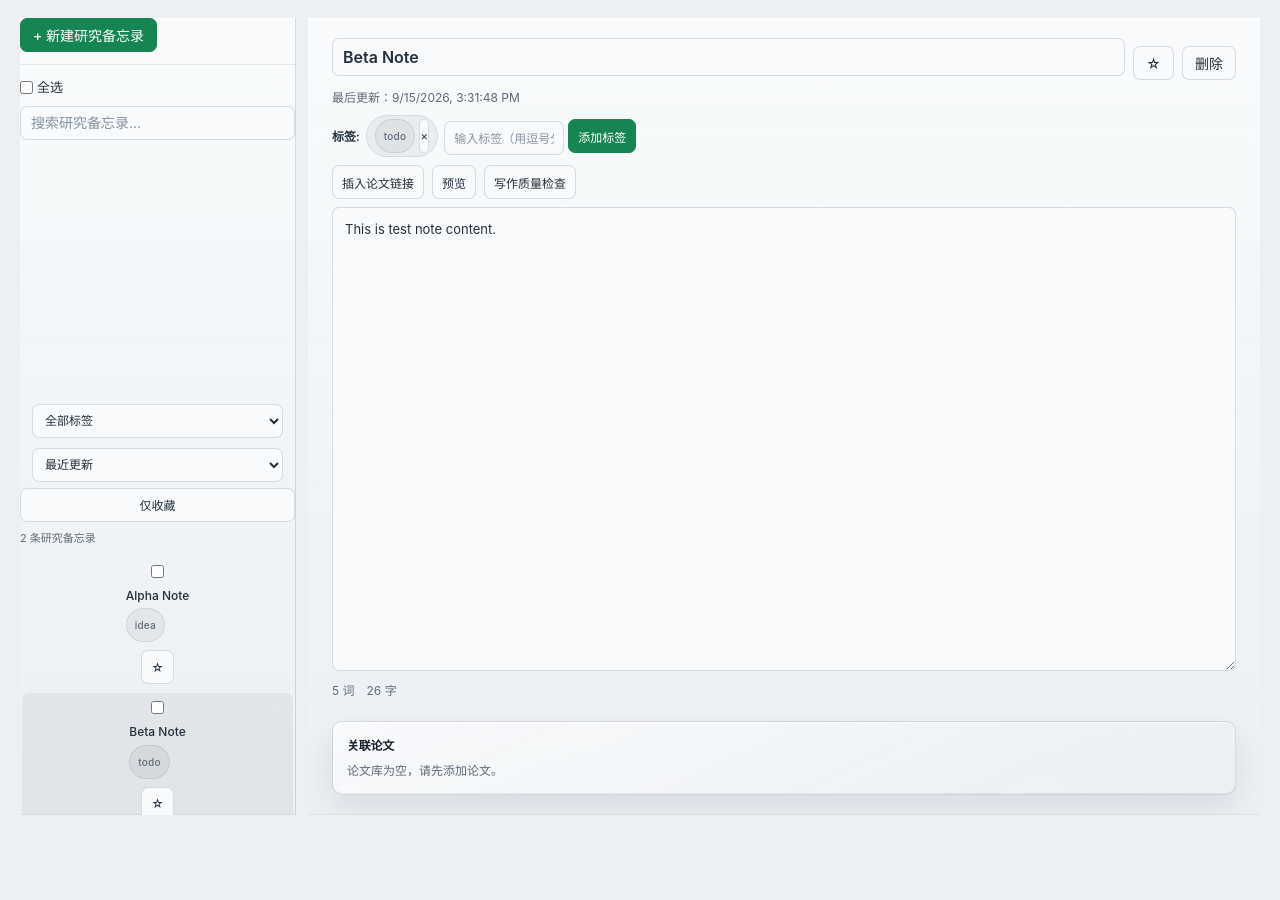
Test case: NotesPage › should filter notes by tag
Select "idea" in the dropdown named "按标签过滤" at (158, 421), box [32,404,283,438]
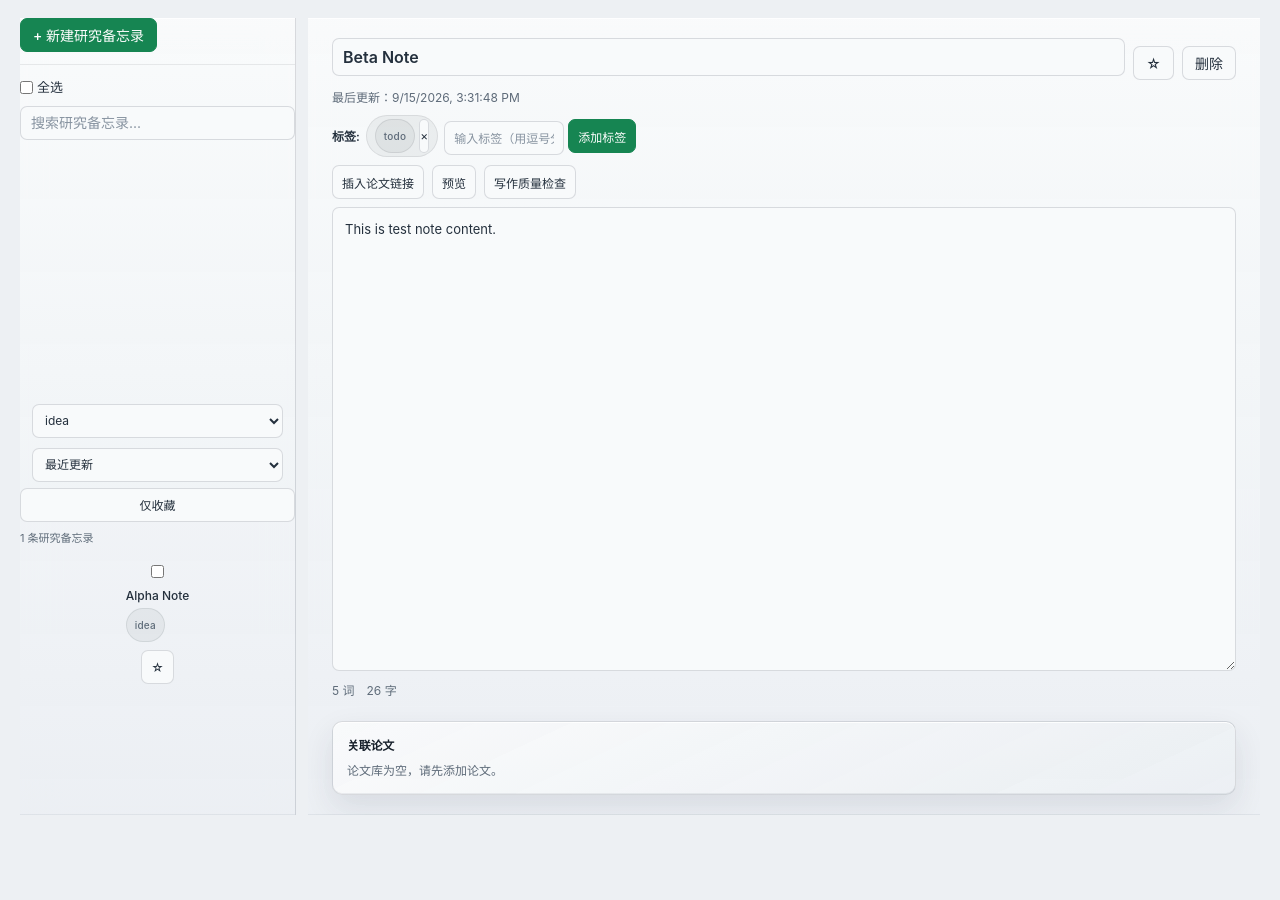
Expected: the text "Alpha Note" is shown, [126,586,189,605]
Expected: the text "1 条研究备忘录" is shown, [20,531,94,545]
